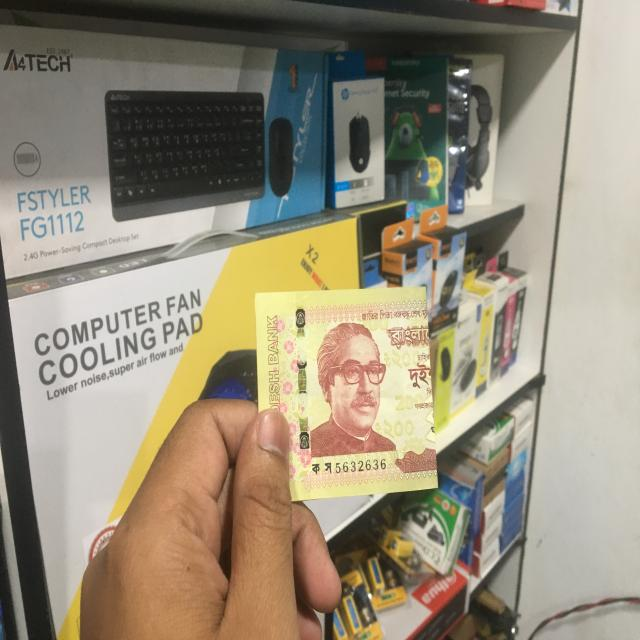Taka: (253, 285, 442, 494)
